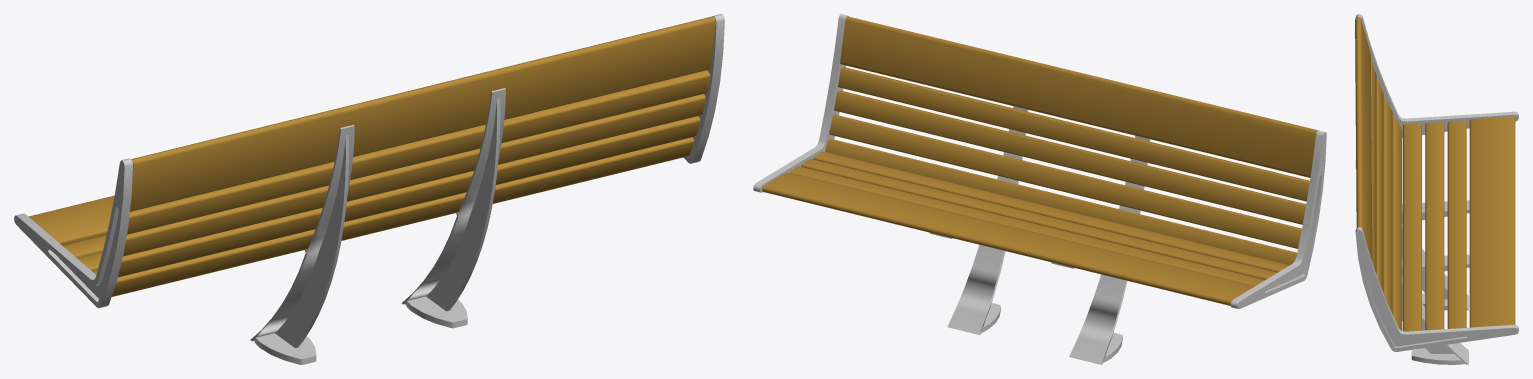
3 renders of one model, left to right at view 1: azimuth 30°, elevation 25°; view 2: azimuth 150°, elevation 25°; view 3: azimuth 270°, elevation 25°, orthographic. The views are drawn at different scales.
Parts seen in each view (by area): view 1: mesh4_mesh4-geometry, mesh1_mesh1-geometry, mesh17_mesh17-geometry, mesh12_mesh12-geometry, mesh7_mesh7-geometry; view 2: mesh4_mesh4-geometry, mesh1_mesh1-geometry, mesh17_mesh17-geometry, mesh12_mesh12-geometry, mesh7_mesh7-geometry; view 3: mesh4_mesh4-geometry, mesh1_mesh1-geometry, mesh7_mesh7-geometry, mesh17_mesh17-geometry, mesh12_mesh12-geometry.
Part boxes in pixels (left/top/right/bottom): mesh4_mesh4-geometry: left=62, top=70, right=710, bottom=296; mesh1_mesh1-geometry: left=28, top=16, right=715, bottom=245; mesh17_mesh17-geometry: left=250, top=88, right=505, bottom=364; mesh12_mesh12-geometry: left=14, top=158, right=132, bottom=308; mesh7_mesh7-geometry: left=683, top=14, right=724, bottom=163; mesh4_mesh4-geometry: left=789, top=67, right=1309, bottom=286; mesh1_mesh1-geometry: left=762, top=16, right=1318, bottom=305; mesh17_mesh17-geometry: left=929, top=106, right=1150, bottom=364; mesh12_mesh12-geometry: left=1230, top=130, right=1326, bottom=309; mesh7_mesh7-geometry: left=753, top=14, right=848, bottom=192; mesh4_mesh4-geometry: left=1371, top=61, right=1466, bottom=331; mesh1_mesh1-geometry: left=1355, top=17, right=1515, bottom=327; mesh7_mesh7-geometry: left=1355, top=227, right=1518, bottom=351; mesh17_mesh17-geometry: left=1355, top=161, right=1469, bottom=364; mesh12_mesh12-geometry: left=1355, top=14, right=1518, bottom=137.
Size of the model in its own units: 0.875 by 0.3945 by 0.2806.
